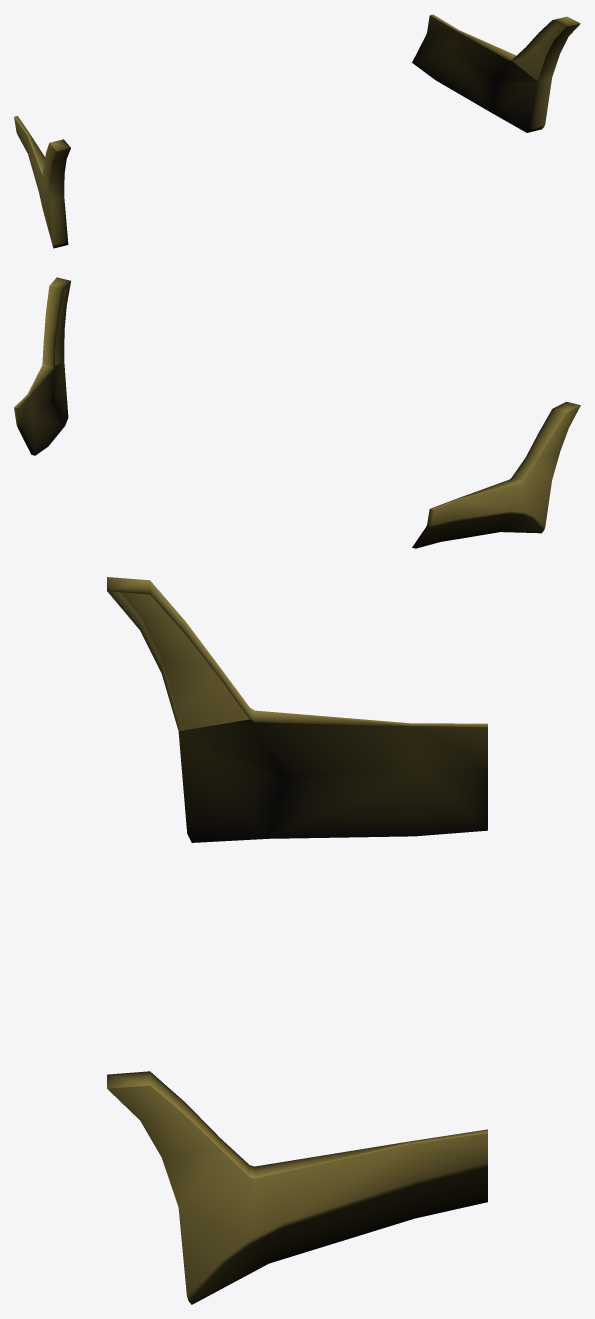
Rendered from Supra_RearBar_04_Duco.fbx.
The picture shows the model from 3 angles, top to bottom: view 1: azimuth 30°, elevation 25°; view 2: azimuth 150°, elevation 25°; view 3: azimuth 270°, elevation 25°; orthographic projection. The views are drawn at different scales.
Parts seen in each view (by area): view 1: Supra_RearBar_04_Duco; view 2: Supra_RearBar_04_Duco; view 3: Supra_RearBar_04_Duco.
Part boxes in pixels (left/top/right/bottom): Supra_RearBar_04_Duco: left=14, top=14, right=580, bottom=248; Supra_RearBar_04_Duco: left=14, top=277, right=580, bottom=548; Supra_RearBar_04_Duco: left=107, top=577, right=487, bottom=1304.
Bounding box in the file's own units: 187 × 39.93 × 58.92.
